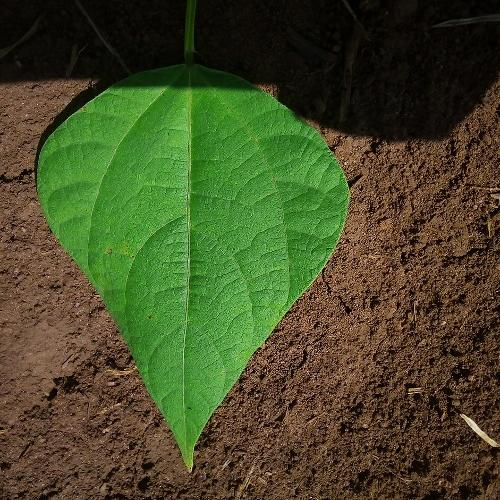sehat: (75, 106, 320, 364)
